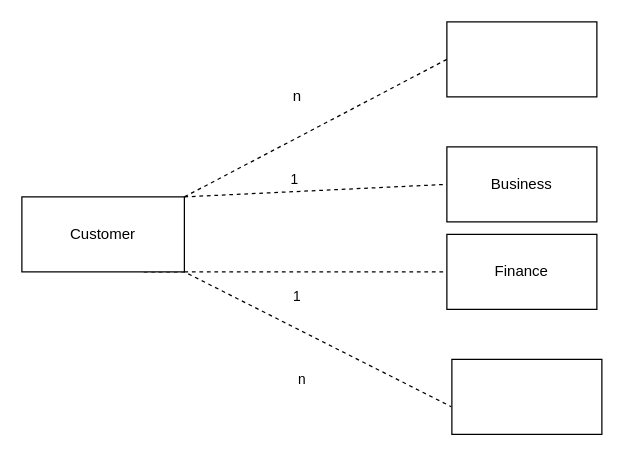
The diagram is 624 pixels wide and 456 high, and some of its shapes have lost their labels. Each missing label, with the centre of its shape:
"Channel" belongs at (521,59).
"Contact" belongs at (526,396).
